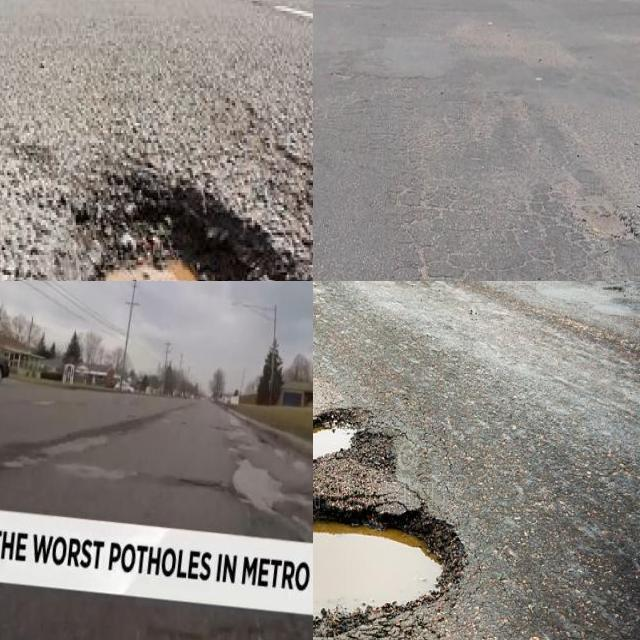Pothole: (99, 170, 284, 281), (313, 524, 446, 623), (236, 467, 311, 531), (232, 459, 312, 512), (12, 430, 94, 476), (232, 459, 284, 511), (578, 209, 635, 240), (56, 463, 137, 480), (41, 436, 108, 456), (177, 476, 228, 492), (225, 438, 258, 453), (211, 422, 237, 433), (292, 460, 308, 472), (153, 416, 176, 423), (258, 435, 270, 447)
